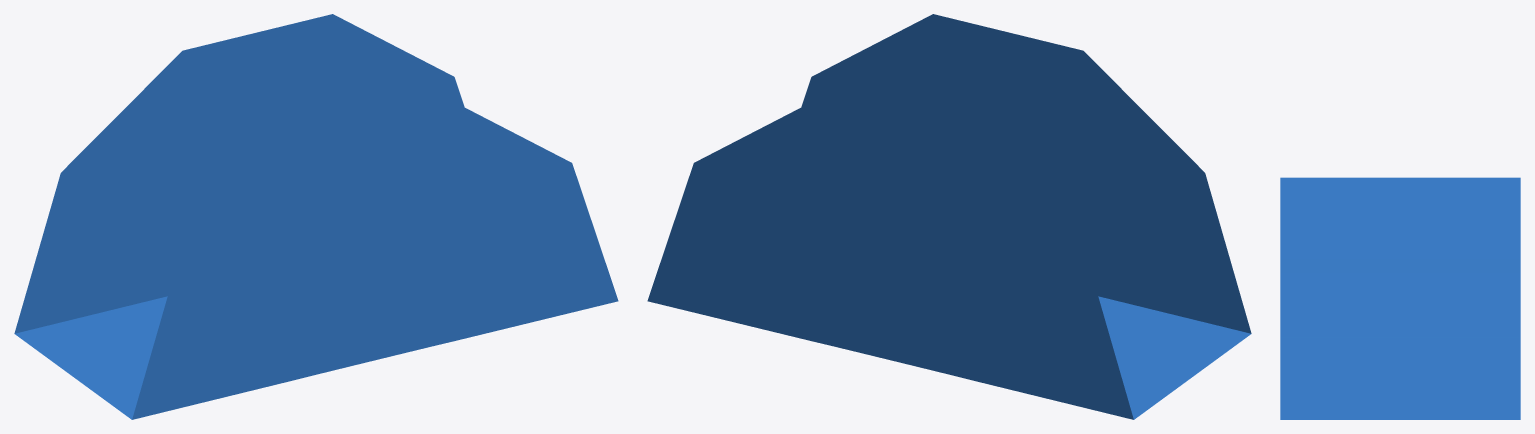
File: obstaculo  1.FBX
3 renders of one model, left to right at view 1: azimuth 30°, elevation 25°; view 2: azimuth 150°, elevation 25°; view 3: azimuth 270°, elevation 25°, orthographic. The views are drawn at different scales.
Parts seen in each view (by area): view 1: Object001; view 2: Object001; view 3: Object001.
Boxes of the visible parts, box(x1,y1,x2,y2) form: Object001: box(14, 14, 618, 419); Object001: box(647, 14, 1251, 419); Object001: box(1280, 177, 1520, 419).
Bounding box in the file's own units: 62.66 × 29.8 × 26.25.
